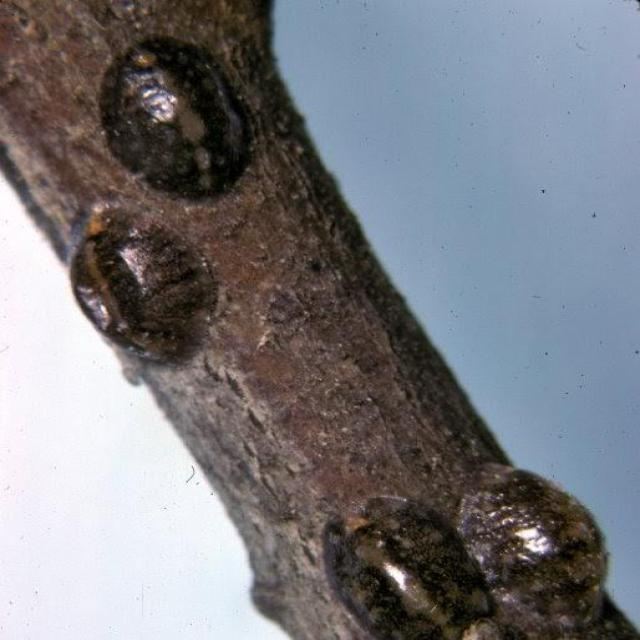BlackScale: (323, 465, 608, 639), (98, 36, 255, 198), (71, 201, 218, 365)
